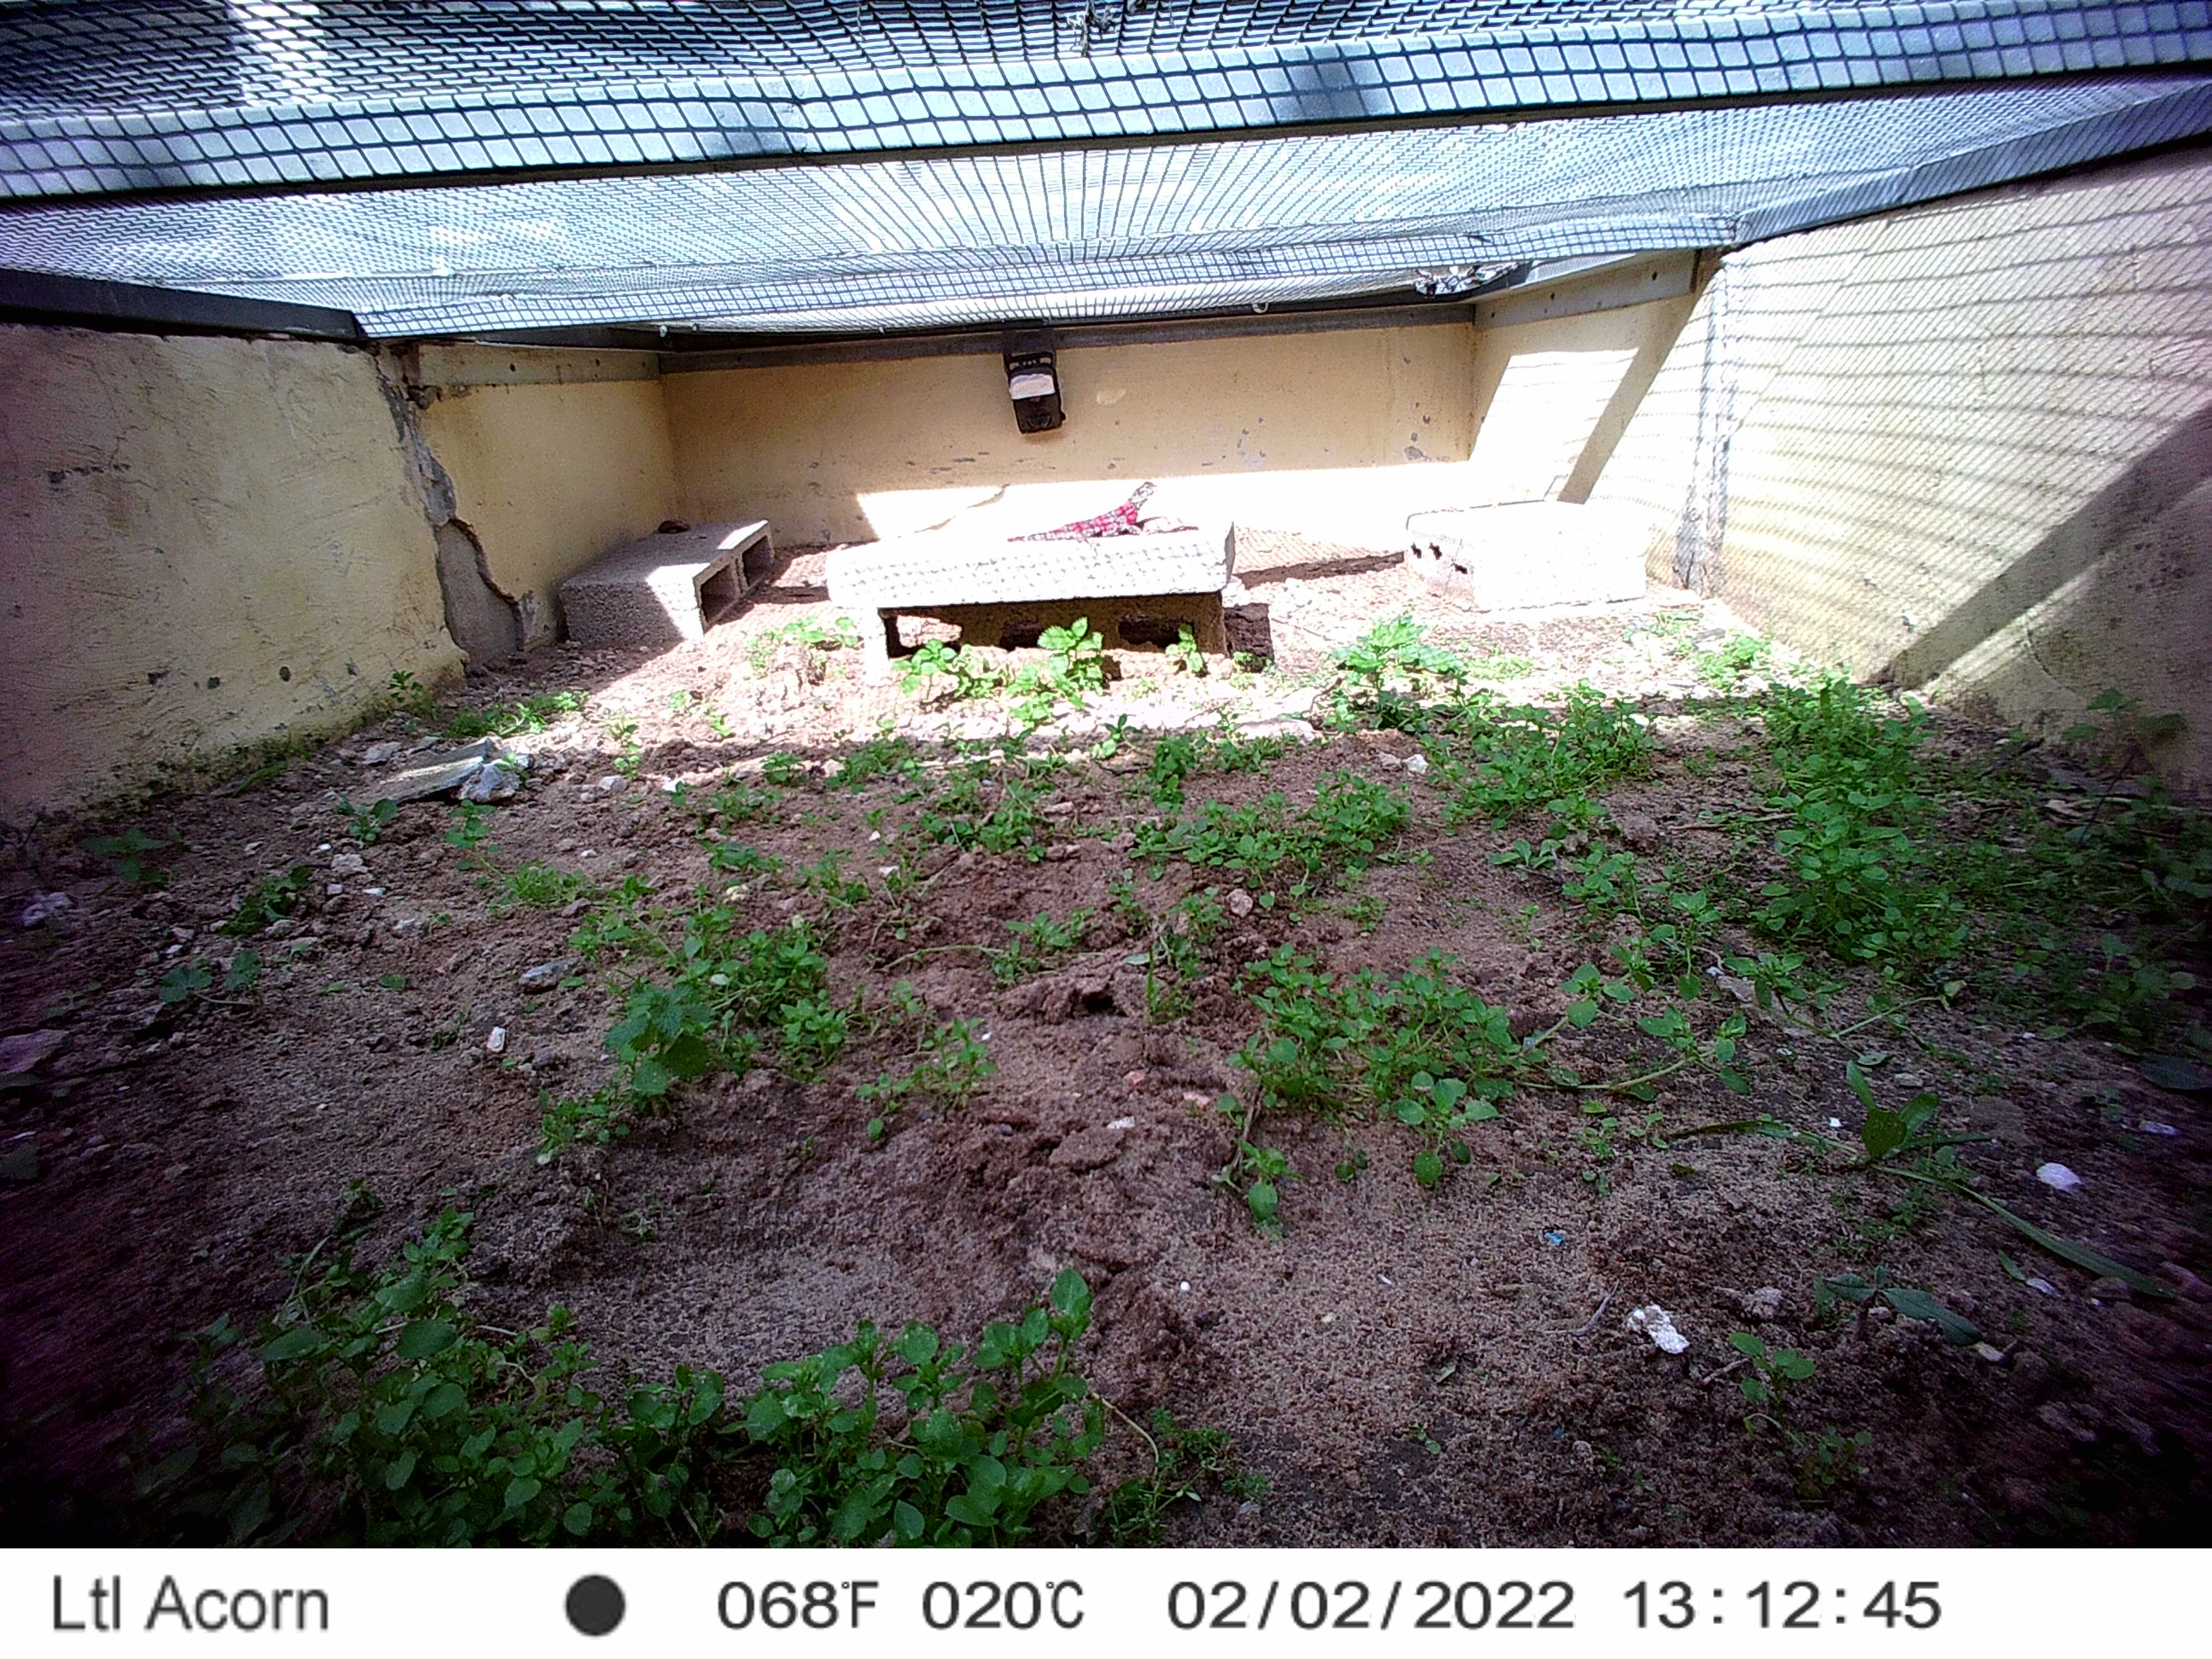lizard: (1001, 479, 1165, 551), (1407, 260, 1533, 301)
